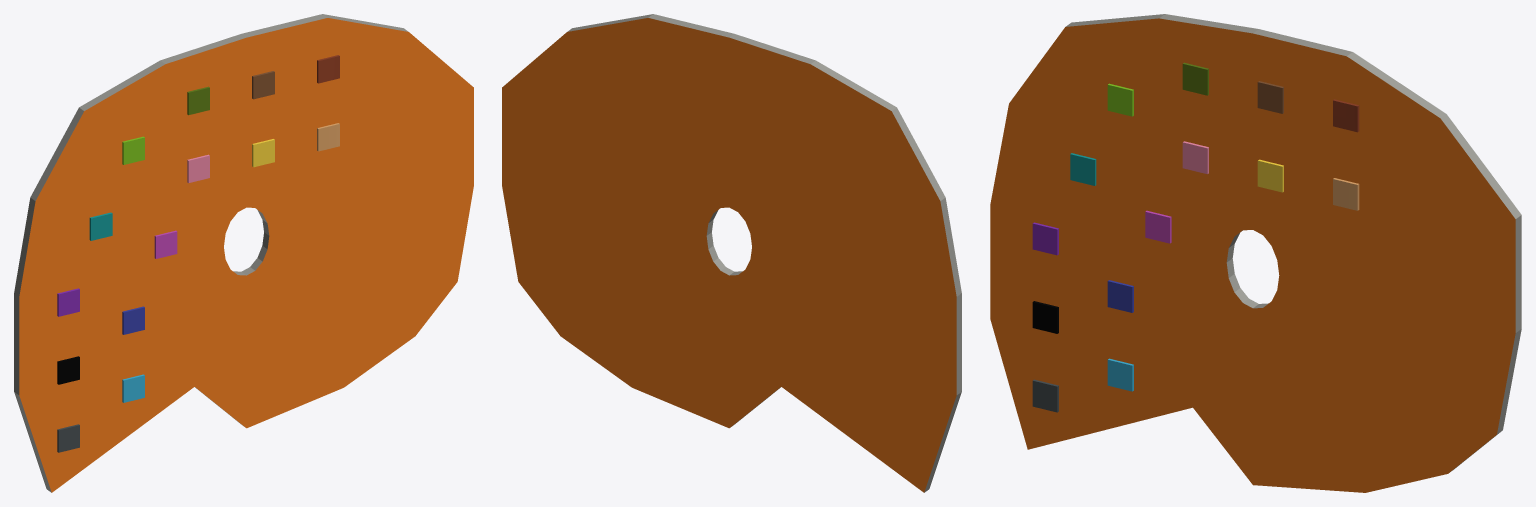
Rendered from item_palette14.obj.
3 views of the same model, side by side, from view 1: azimuth 30°, elevation 25°; view 2: azimuth 150°, elevation 25°; view 3: azimuth 330°, elevation 25° (orthographic). The views are drawn at different scales.
Parts seen in each view (by area): view 1: wooden_palette_with_open_thumb_hole_and_grip_notch, native_cumulative_paint_state; view 2: wooden_palette_with_open_thumb_hole_and_grip_notch; view 3: wooden_palette_with_open_thumb_hole_and_grip_notch, native_cumulative_paint_state.
Part boxes in pixels (<box>): wooden_palette_with_open_thumb_hole_and_grip_notch: <box>14,14,473,492</box>; native_cumulative_paint_state: <box>57,55,339,452</box>; wooden_palette_with_open_thumb_hole_and_grip_notch: <box>502,14,961,492</box>; wooden_palette_with_open_thumb_hole_and_grip_notch: <box>990,14,1521,492</box>; native_cumulative_paint_state: <box>1032,62,1359,412</box>.
Size of the model in its own units: 0.875 by 0.75 by 0.0219.
